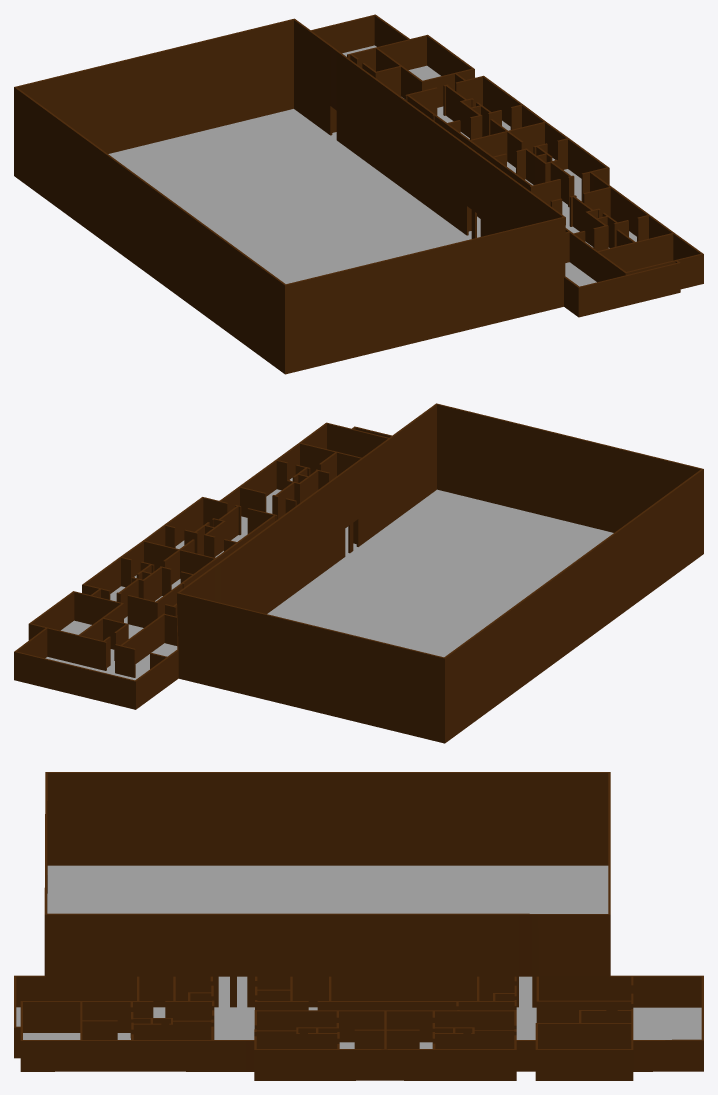
3 views of the same model, one above another, from view 1: azimuth 30°, elevation 25°; view 2: azimuth 150°, elevation 25°; view 3: azimuth 270°, elevation 25° (orthographic). The views are drawn at different scales.
Visible parts, largest first — view 1: Plane.029, Plane.021; view 2: Plane.029, Plane.021; view 3: Plane.029, Plane.021.
Part boxes in pixels (x1,y1,x2,y2): Plane.029: (14,14,703,374); Plane.021: (108,45,636,286); Plane.029: (14,403,703,743); Plane.021: (45,478,613,680); Plane.029: (14,772,703,1080); Plane.021: (16,865,701,1048).
Size of the model in its own units: 44.96 by 9 by 60.66.
